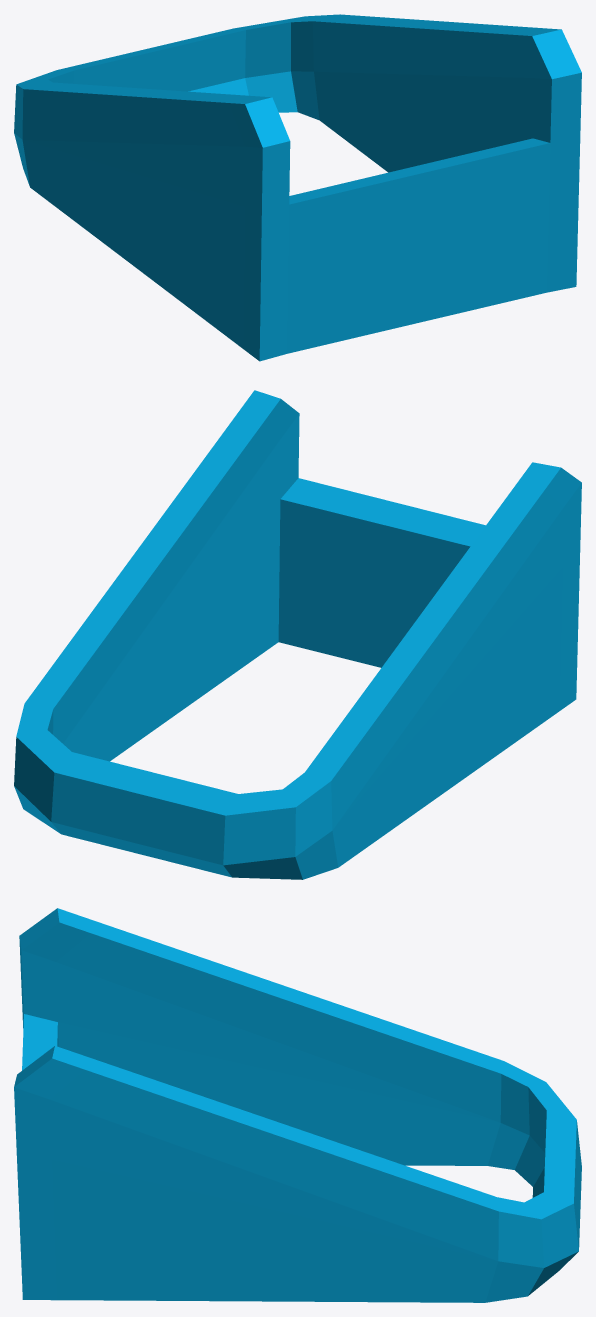
Rendered from Bank_Card_Base_Lod1.fbx.
The picture shows the model from 3 angles, top to bottom: view 1: azimuth 30°, elevation 25°; view 2: azimuth 150°, elevation 25°; view 3: azimuth 270°, elevation 25°; orthographic projection.
Parts seen in each view (by area): view 1: Bank_Card_Base_Lod1; view 2: Bank_Card_Base_Lod1; view 3: Bank_Card_Base_Lod1.
Boxes of the visible parts, x1,y1,x2,y2 form: Bank_Card_Base_Lod1: [14, 14, 581, 361]; Bank_Card_Base_Lod1: [14, 390, 581, 879]; Bank_Card_Base_Lod1: [14, 908, 581, 1302].
Bounding box in the file's own units: 15.26 × 11.13 × 23.71.
